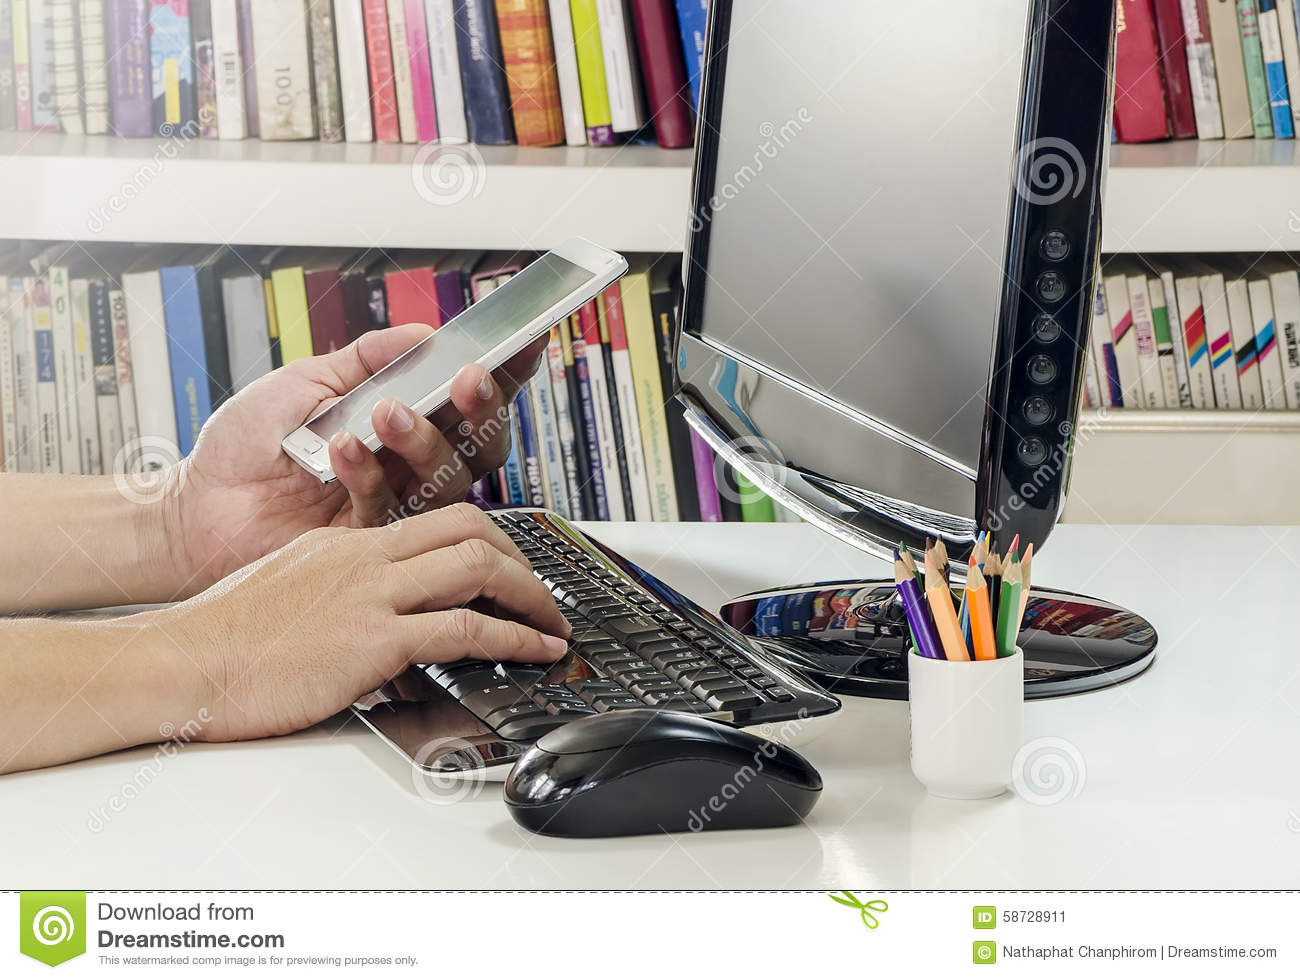Cell Phone: (267, 236, 635, 488)
